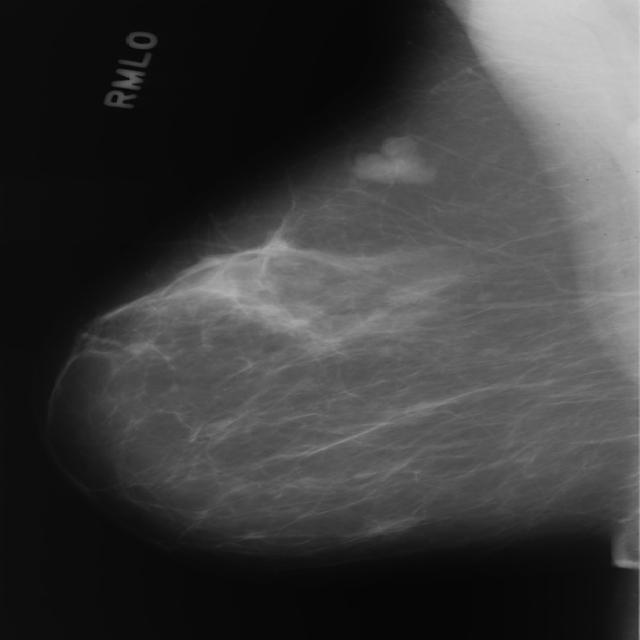tumour: (351, 134, 434, 184)
